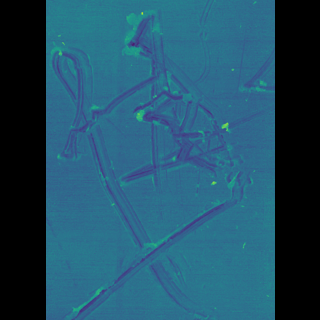Loch: (82, 7, 243, 319)
